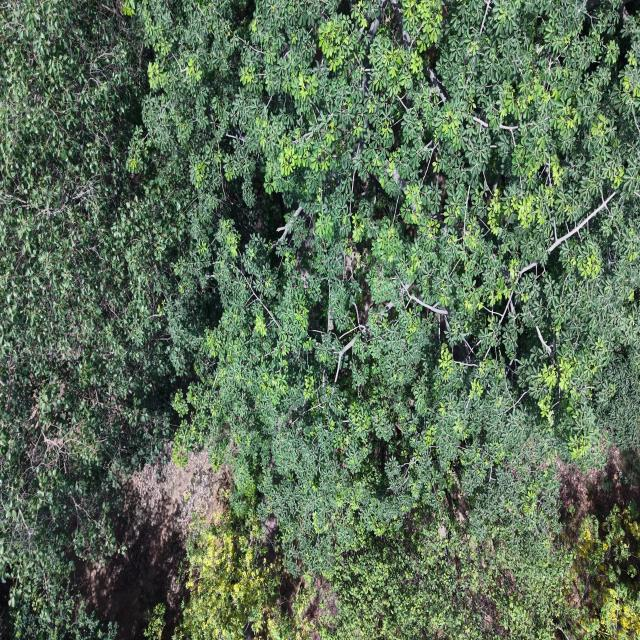DRY_AREA: (75, 452, 230, 639)
VEGETATION_TREE: (0, 0, 639, 638), (0, 0, 215, 638)
